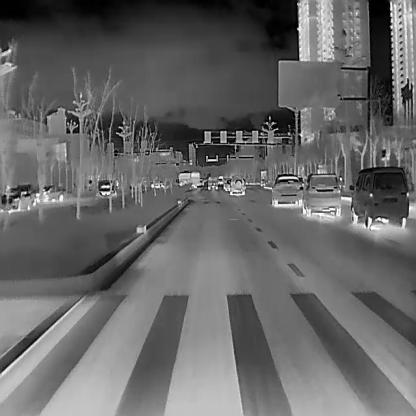bus: (177, 170, 199, 188)
car: (349, 165, 408, 227), (298, 172, 340, 216), (271, 173, 302, 206), (0, 183, 35, 212), (34, 184, 64, 202), (97, 179, 116, 197), (229, 174, 244, 195), (149, 180, 165, 188)
truck: (207, 175, 216, 189)
